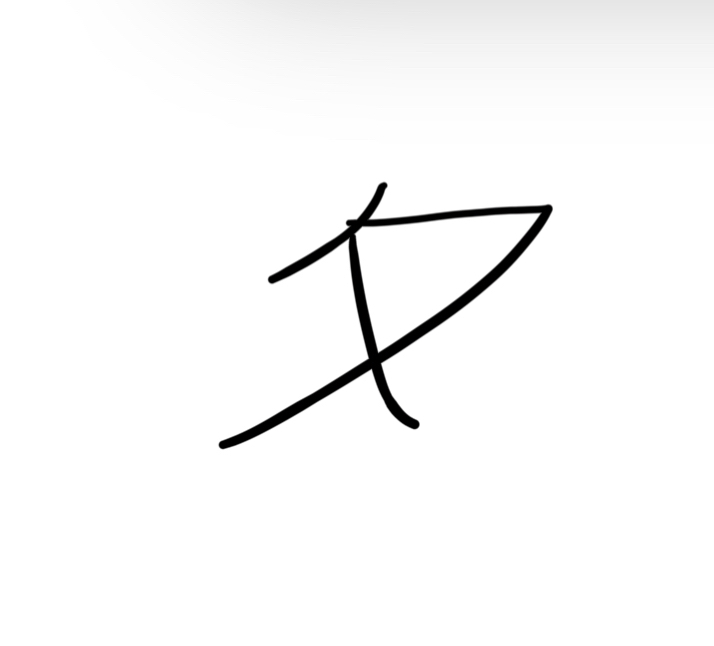ta: (199, 176, 571, 463)
